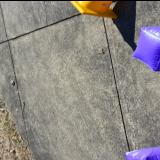cone: (70, 0, 119, 18)
cube: (132, 25, 160, 71), (124, 146, 160, 160)
